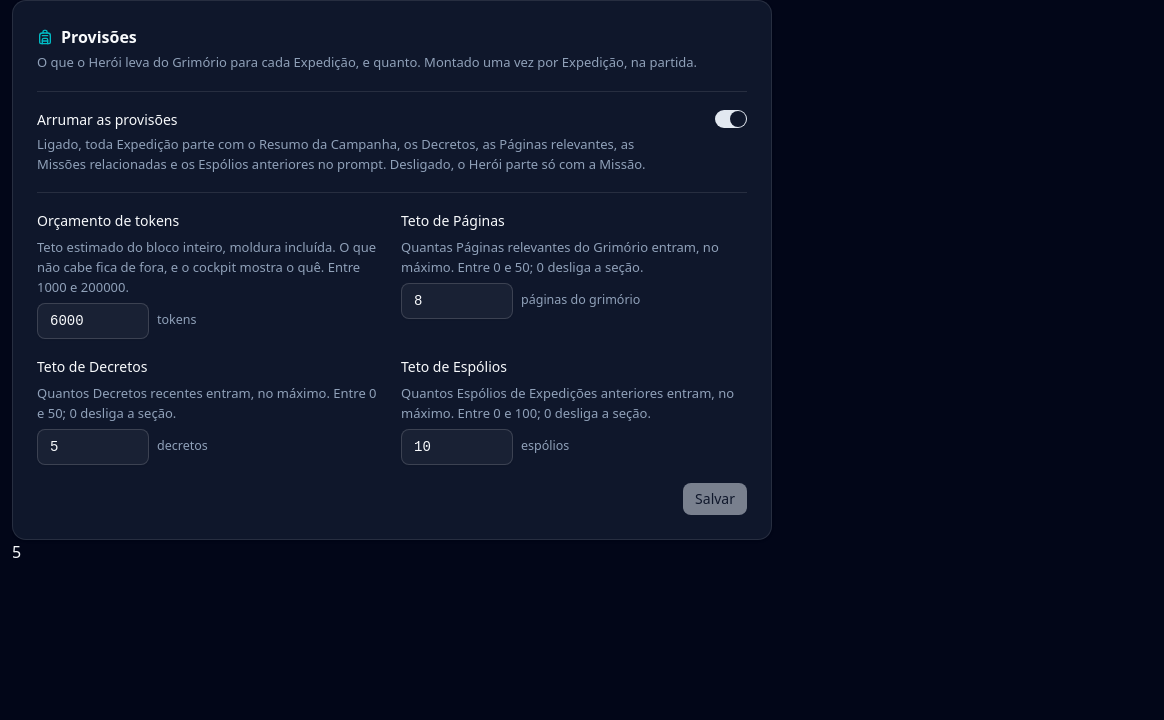
Test: bloco das provisões em Settings › grava só as chaves que mudaram, uma por PUT, e avisa pelo toast
Click the switch at (731, 119), box [715,110,747,128]
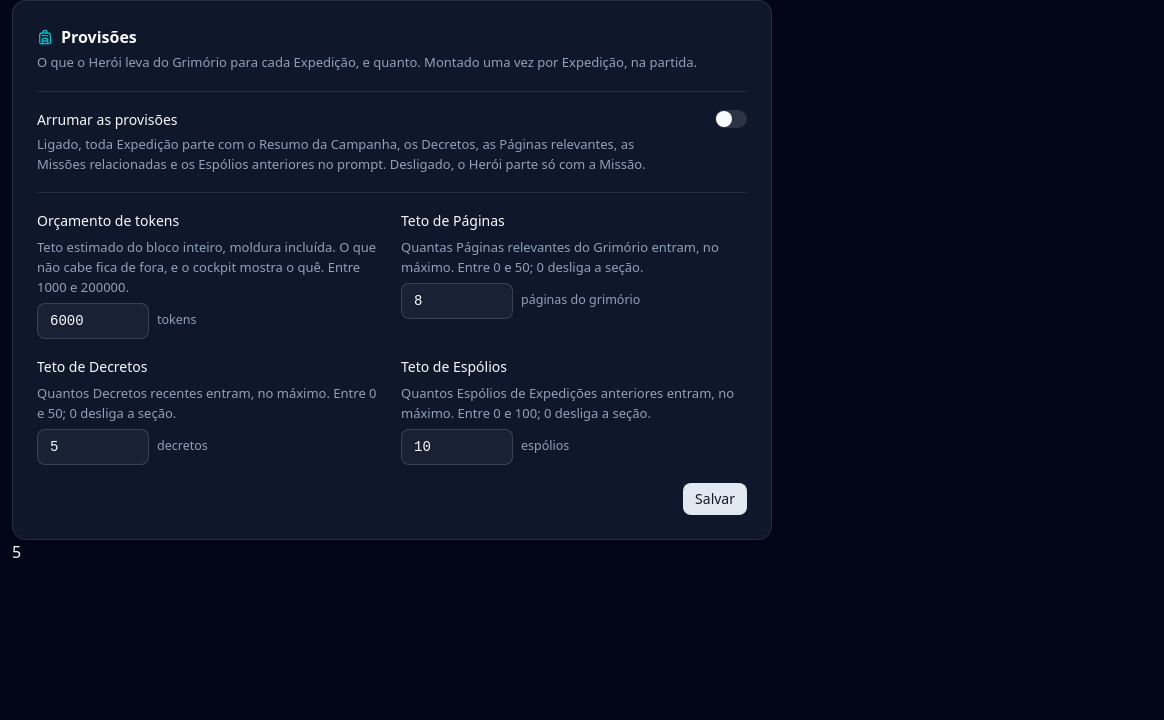
Replace the text in the number field labelled "Teto de Páginas" with "0" at (457, 300), box [401,282,513,318]
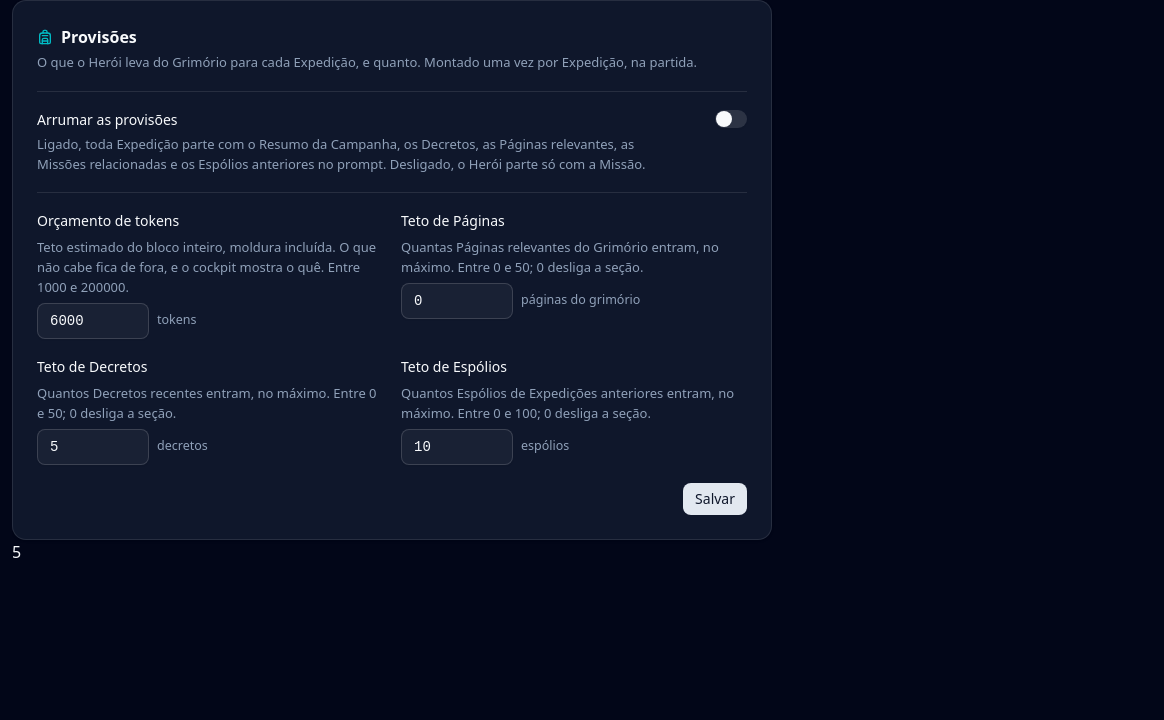
Replace the text in the number field labelled "Teto de Espólios" with "25" at (457, 446), box [401,428,513,464]
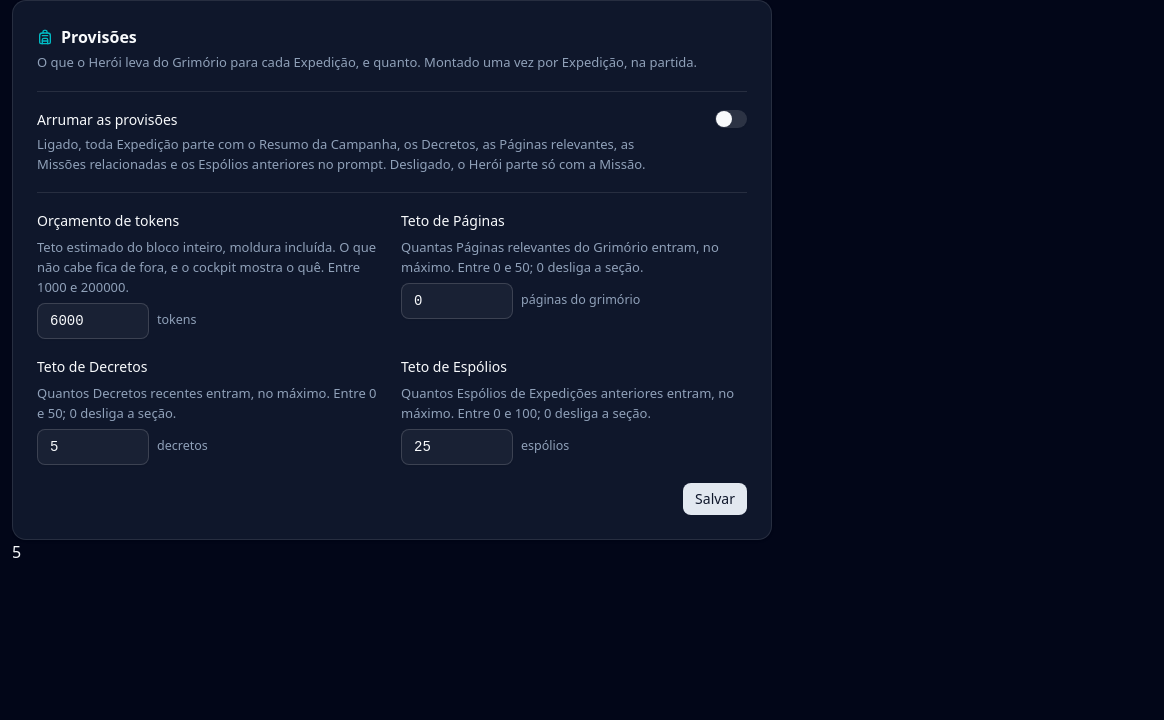
Click the button "Salvar" at (715, 498), box [683,482,747,514]
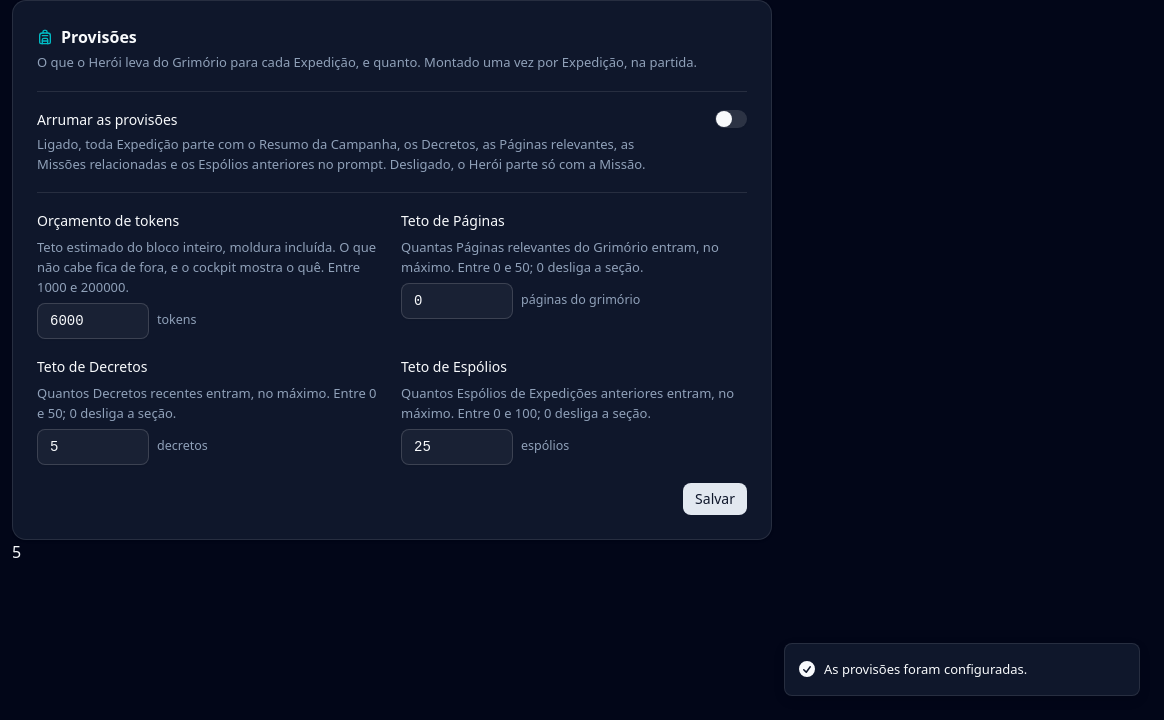
Result: the text "As provisões foram configuradas." is shown at [824,660,1027,679]
